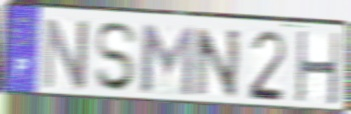2: (248, 28, 288, 104)
H: (295, 29, 342, 108)
M: (139, 21, 197, 99)
N: (41, 15, 92, 92), (193, 26, 243, 101)
S: (92, 21, 141, 95)
